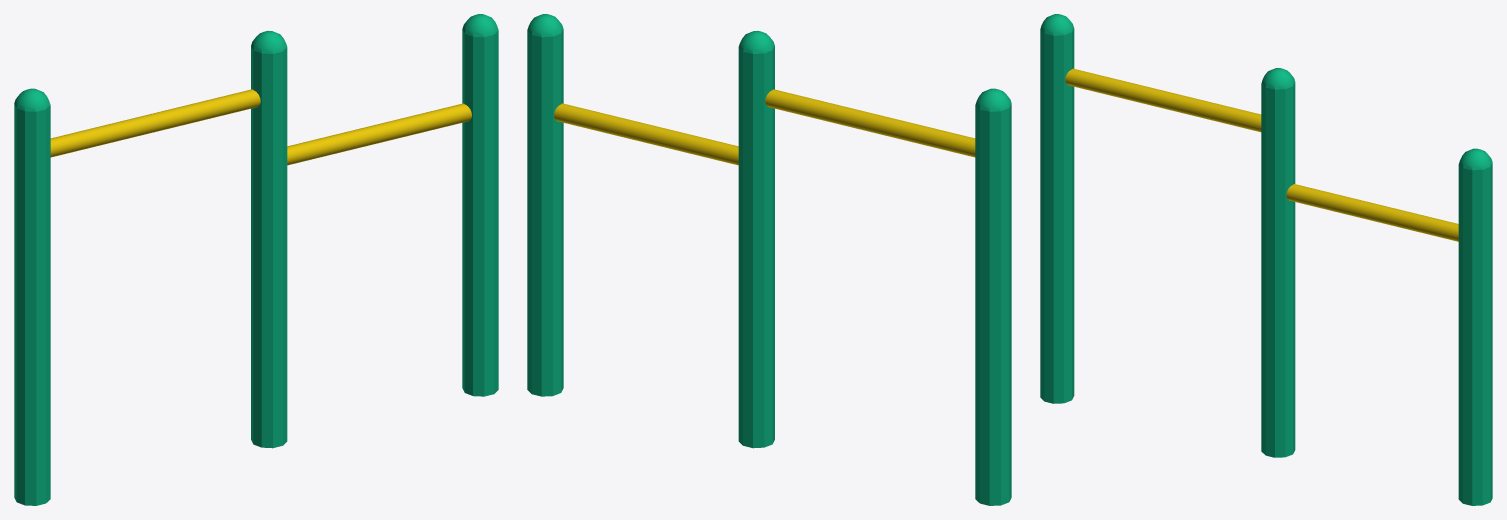
Rendered from danggan.fbx.
3 renders of one model, left to right at view 1: azimuth 30°, elevation 25°; view 2: azimuth 150°, elevation 25°; view 3: azimuth 330°, elevation 25°, orthographic. The views are drawn at different scales.
Visible parts, largest first — view 1: dangang; view 2: dangang; view 3: dangang.
Boxes of the visible parts, box(x1,y1,x2,y2) form: dangang: box(14, 14, 498, 505); dangang: box(527, 14, 1011, 505); dangang: box(1040, 14, 1492, 505).
Bounding box in the file's own units: 59.16 × 48.09 × 3.71.
Materials: 1 (1 with a texture image).
